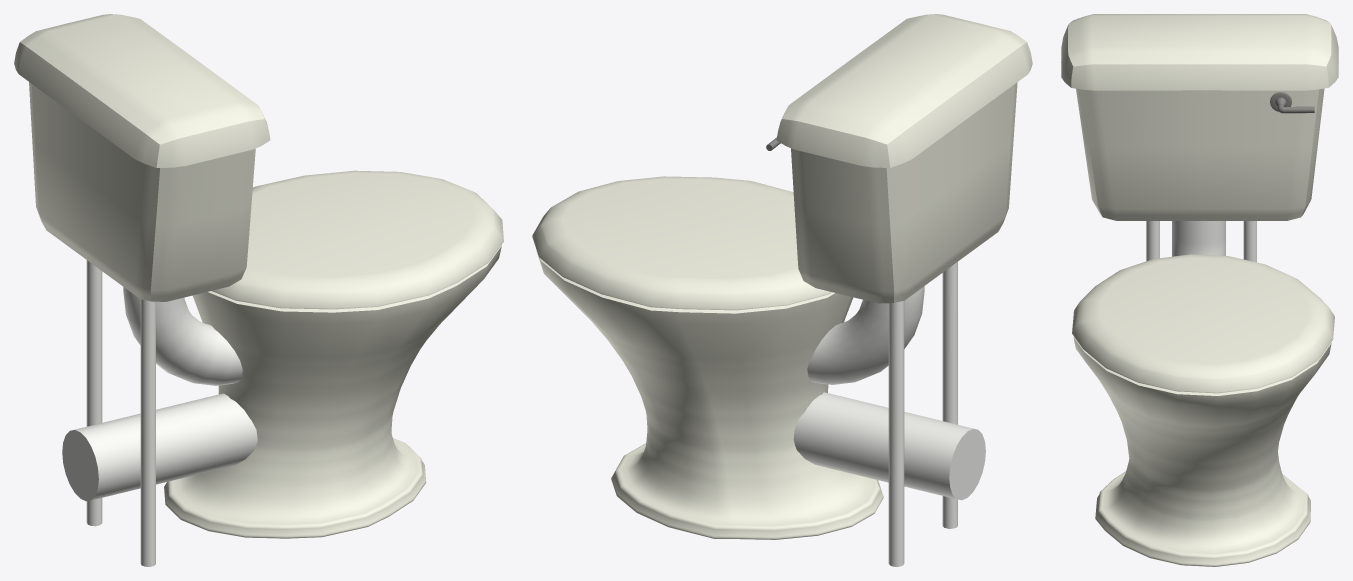
File: Toilet.FBX
3 views of the same model, side by side, from view 1: azimuth 30°, elevation 25°; view 2: azimuth 150°, elevation 25°; view 3: azimuth 270°, elevation 25° (orthographic). The views are drawn at different scales.
Parts seen in each view (by area): view 1: Cylinder001, Box001, Cylinder007, Cylinder006, Cylinder005, Cylinder004; view 2: Cylinder001, Box001, Cylinder007, Cylinder006, Cylinder004, Cylinder005; view 3: Cylinder001, Box001, Cylinder006, Cylinder003, Cylinder004, Cylinder005.
Boxes of the visible parts, x1,y1,x2,y2 form: Cylinder001: [164, 170, 503, 538]; Box001: [14, 14, 270, 301]; Cylinder007: [62, 393, 257, 501]; Cylinder006: [123, 287, 242, 385]; Cylinder005: [140, 299, 155, 566]; Cylinder004: [86, 260, 102, 526]; Cylinder001: [532, 176, 883, 539]; Box001: [776, 14, 1032, 303]; Cylinder007: [793, 392, 985, 500]; Cylinder006: [807, 286, 924, 384]; Cylinder004: [888, 301, 904, 566]; Cylinder005: [942, 262, 957, 528]; Cylinder001: [1072, 254, 1334, 566]; Box001: [1061, 14, 1338, 220]; Cylinder006: [1172, 221, 1225, 256]; Cylinder003: [1270, 92, 1314, 113]; Cylinder004: [1243, 221, 1256, 262]; Cylinder005: [1146, 221, 1159, 261].
Size of the model in its own units: 44.35 by 48.1 by 28.29.
3 materials, 3 textured.
